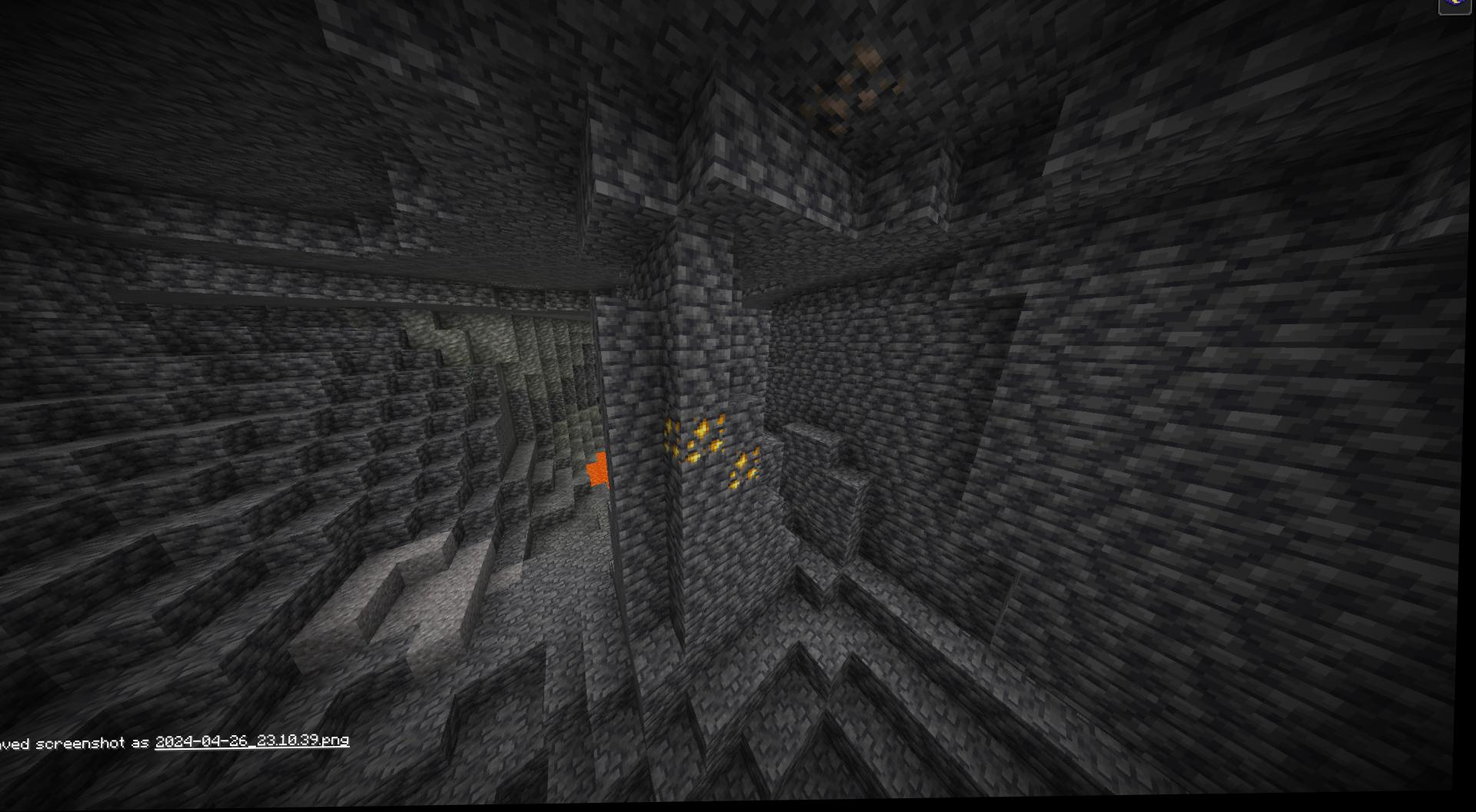gold ore: (690, 415, 731, 463), (736, 448, 766, 493), (662, 419, 686, 463)
iron ore: (806, 48, 899, 148)
